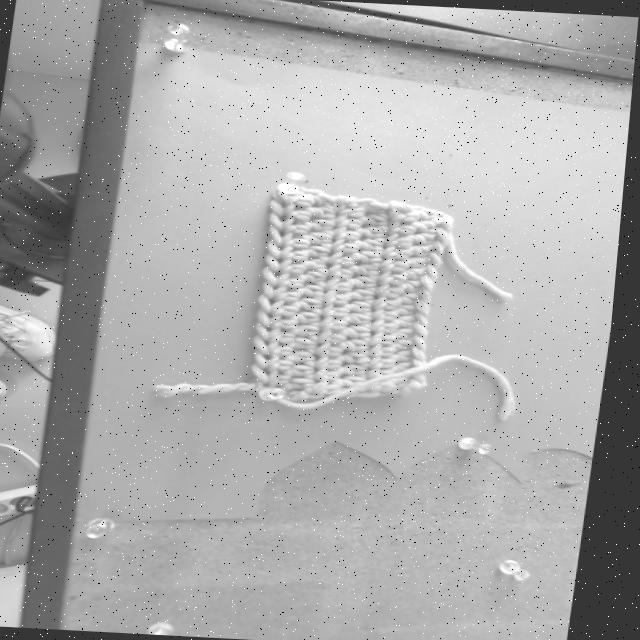ch: (420, 297, 434, 317), (419, 330, 432, 351), (419, 320, 433, 339), (442, 227, 454, 249), (426, 273, 439, 293), (419, 344, 431, 362), (432, 264, 443, 282), (434, 251, 445, 269), (439, 239, 449, 258), (420, 372, 434, 385), (423, 310, 434, 326), (447, 217, 457, 234), (425, 284, 433, 303), (418, 379, 429, 389), (419, 357, 428, 365)
hdc: (274, 224, 316, 248), (264, 293, 306, 316), (273, 210, 315, 233), (260, 332, 300, 356), (260, 348, 304, 369), (263, 307, 305, 329), (268, 266, 310, 288), (273, 238, 314, 260), (274, 199, 315, 221), (263, 318, 302, 341), (259, 362, 300, 383), (273, 252, 312, 274), (269, 281, 307, 301), (278, 189, 318, 207), (371, 282, 411, 299), (310, 364, 348, 381), (382, 219, 421, 235), (311, 340, 350, 356), (328, 224, 366, 240), (323, 262, 358, 279), (374, 271, 415, 285), (337, 324, 378, 338), (376, 257, 414, 272), (364, 344, 404, 358), (332, 213, 369, 228), (366, 319, 405, 333), (367, 331, 405, 345), (379, 233, 417, 247), (326, 238, 364, 252), (317, 315, 352, 330), (321, 290, 355, 305), (334, 376, 373, 389), (311, 356, 350, 369), (416, 216, 447, 232), (370, 296, 408, 309), (378, 246, 419, 258), (317, 328, 352, 342), (313, 380, 347, 394), (319, 303, 355, 316), (393, 206, 424, 221), (325, 251, 360, 264), (322, 278, 357, 291), (370, 308, 407, 320), (354, 201, 391, 213), (354, 249, 388, 262), (303, 231, 337, 244), (305, 218, 339, 231), (304, 206, 340, 218), (337, 202, 370, 215), (305, 193, 338, 206), (341, 338, 376, 350), (294, 310, 326, 323), (294, 297, 328, 309), (411, 232, 442, 245), (367, 358, 403, 369), (359, 226, 392, 238), (356, 238, 389, 250), (348, 287, 381, 299), (341, 352, 377, 363), (299, 270, 332, 282), (294, 324, 326, 336), (290, 363, 322, 375), (398, 314, 423, 329), (352, 276, 383, 288), (293, 336, 324, 348), (365, 368, 402, 378), (289, 377, 322, 388), (305, 244, 335, 256), (299, 284, 329, 296), (291, 350, 323, 361), (409, 244, 438, 256), (408, 266, 431, 281), (300, 258, 334, 268), (363, 214, 391, 226), (342, 364, 375, 374), (349, 301, 378, 312), (397, 327, 421, 340), (354, 264, 385, 274), (349, 312, 377, 323), (417, 209, 447, 219), (404, 280, 425, 293), (407, 256, 433, 266), (401, 293, 424, 304), (395, 350, 418, 361), (392, 377, 419, 386), (397, 361, 418, 372), (397, 339, 420, 349), (399, 304, 421, 313)
